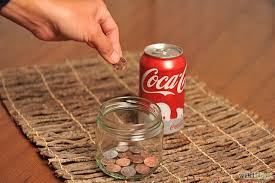can: (134, 41, 195, 143)
